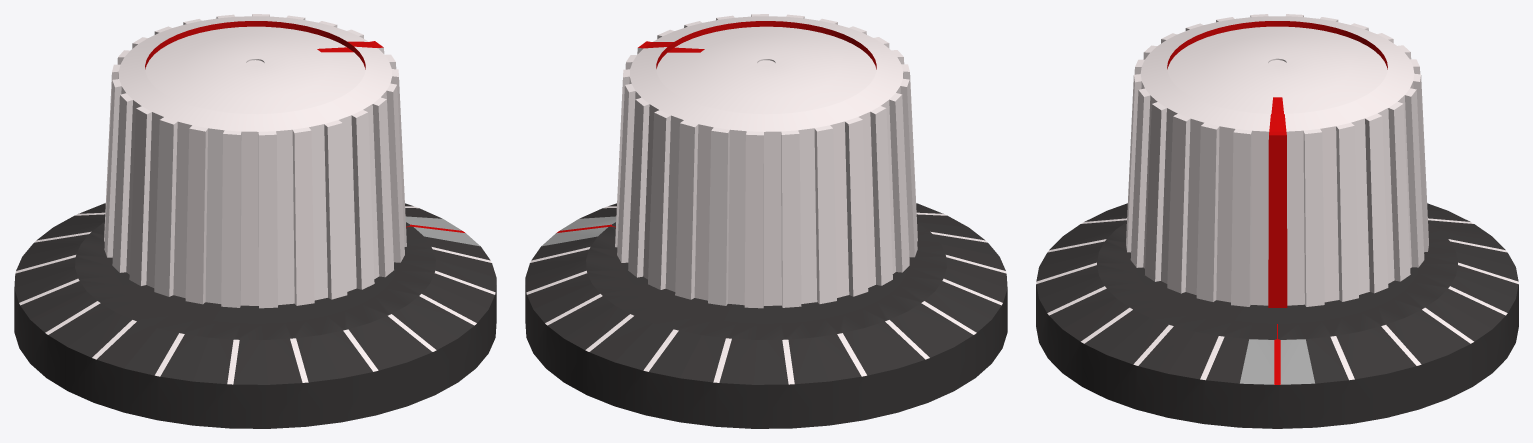
Rendered from Knob.fbx.
3 views of the same model, side by side, from view 1: azimuth 30°, elevation 25°; view 2: azimuth 150°, elevation 25°; view 3: azimuth 270°, elevation 25° (orthographic).
Parts seen in each view (by area): view 1: pCylinder4, pCylinder1; view 2: pCylinder4, pCylinder1; view 3: pCylinder4, pCylinder1.
Part boxes in pixels (x1,y1,x2,y2): pCylinder4: [104, 14, 406, 308]; pCylinder1: [14, 203, 496, 428]; pCylinder4: [615, 14, 917, 308]; pCylinder1: [525, 203, 1007, 428]; pCylinder4: [1126, 14, 1428, 307]; pCylinder1: [1036, 203, 1518, 428].
Size of the model in its own units: 36.31 by 21.93 by 36.31.
